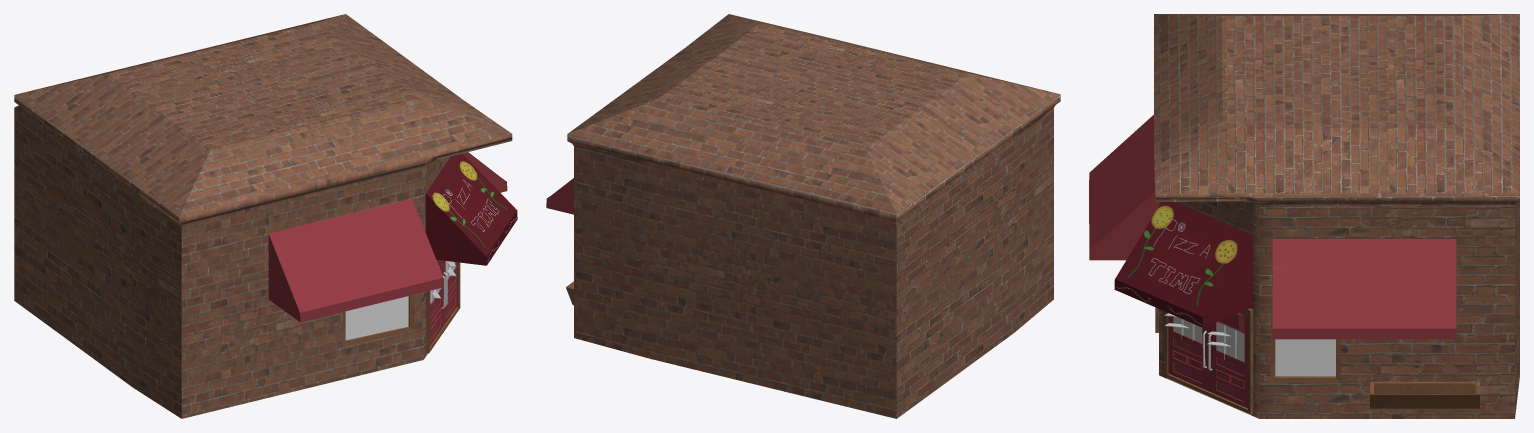
The model's file is PizzaPlace.fbx.
3 renders of one model, left to right at view 1: azimuth 30°, elevation 25°; view 2: azimuth 150°, elevation 25°; view 3: azimuth 270°, elevation 25°, orthographic. The views are drawn at different scales.
Parts seen in each view (by area): view 1: Pizza_Place, Cover2, Cover3, Glass_Wall2, Double_Door, Window_Frame2, Double_Door_Frame, Cover1; view 2: Pizza_Place, Cover1; view 3: Pizza_Place, Cover1, Cover3, Cover2, Double_Door, Planter_Box, Glass_Wall1, Double_Door_Frame, Window_Frame1, Window2, Window1.
Boxes of the visible parts, x1=… form: Pizza_Place: x1=14, y1=14, x2=512, y2=418; Cover2: x1=268, y1=199, x2=443, y2=322; Cover3: x1=425, y1=153, x2=517, y2=265; Glass_Wall2: x1=345, y1=296, x2=408, y2=340; Double_Door: x1=429, y1=260, x2=457, y2=345; Window_Frame2: x1=343, y1=294, x2=414, y2=344; Double_Door_Frame: x1=426, y1=262, x2=460, y2=353; Cover1: x1=463, y1=152, x2=507, y2=192; Pizza_Place: x1=567, y1=14, x2=1060, y2=418; Cover1: x1=546, y1=178, x2=573, y2=214; Pizza_Place: x1=1154, y1=14, x2=1519, y2=418; Cover1: x1=1272, y1=239, x2=1456, y2=339; Cover3: x1=1114, y1=202, x2=1252, y2=327; Cover2: x1=1089, y1=115, x2=1158, y2=260; Double_Door: x1=1168, y1=313, x2=1247, y2=407; Planter_Box: x1=1370, y1=381, x2=1479, y2=409; Glass_Wall1: x1=1275, y1=339, x2=1335, y2=376; Double_Door_Frame: x1=1164, y1=308, x2=1253, y2=414; Window_Frame1: x1=1270, y1=314, x2=1340, y2=382; Window2: x1=1216, y1=322, x2=1244, y2=361; Window1: x1=1173, y1=316, x2=1202, y2=342.
Bounding box in the file's own units: 0.6095 × 0.3579 × 0.5382.
